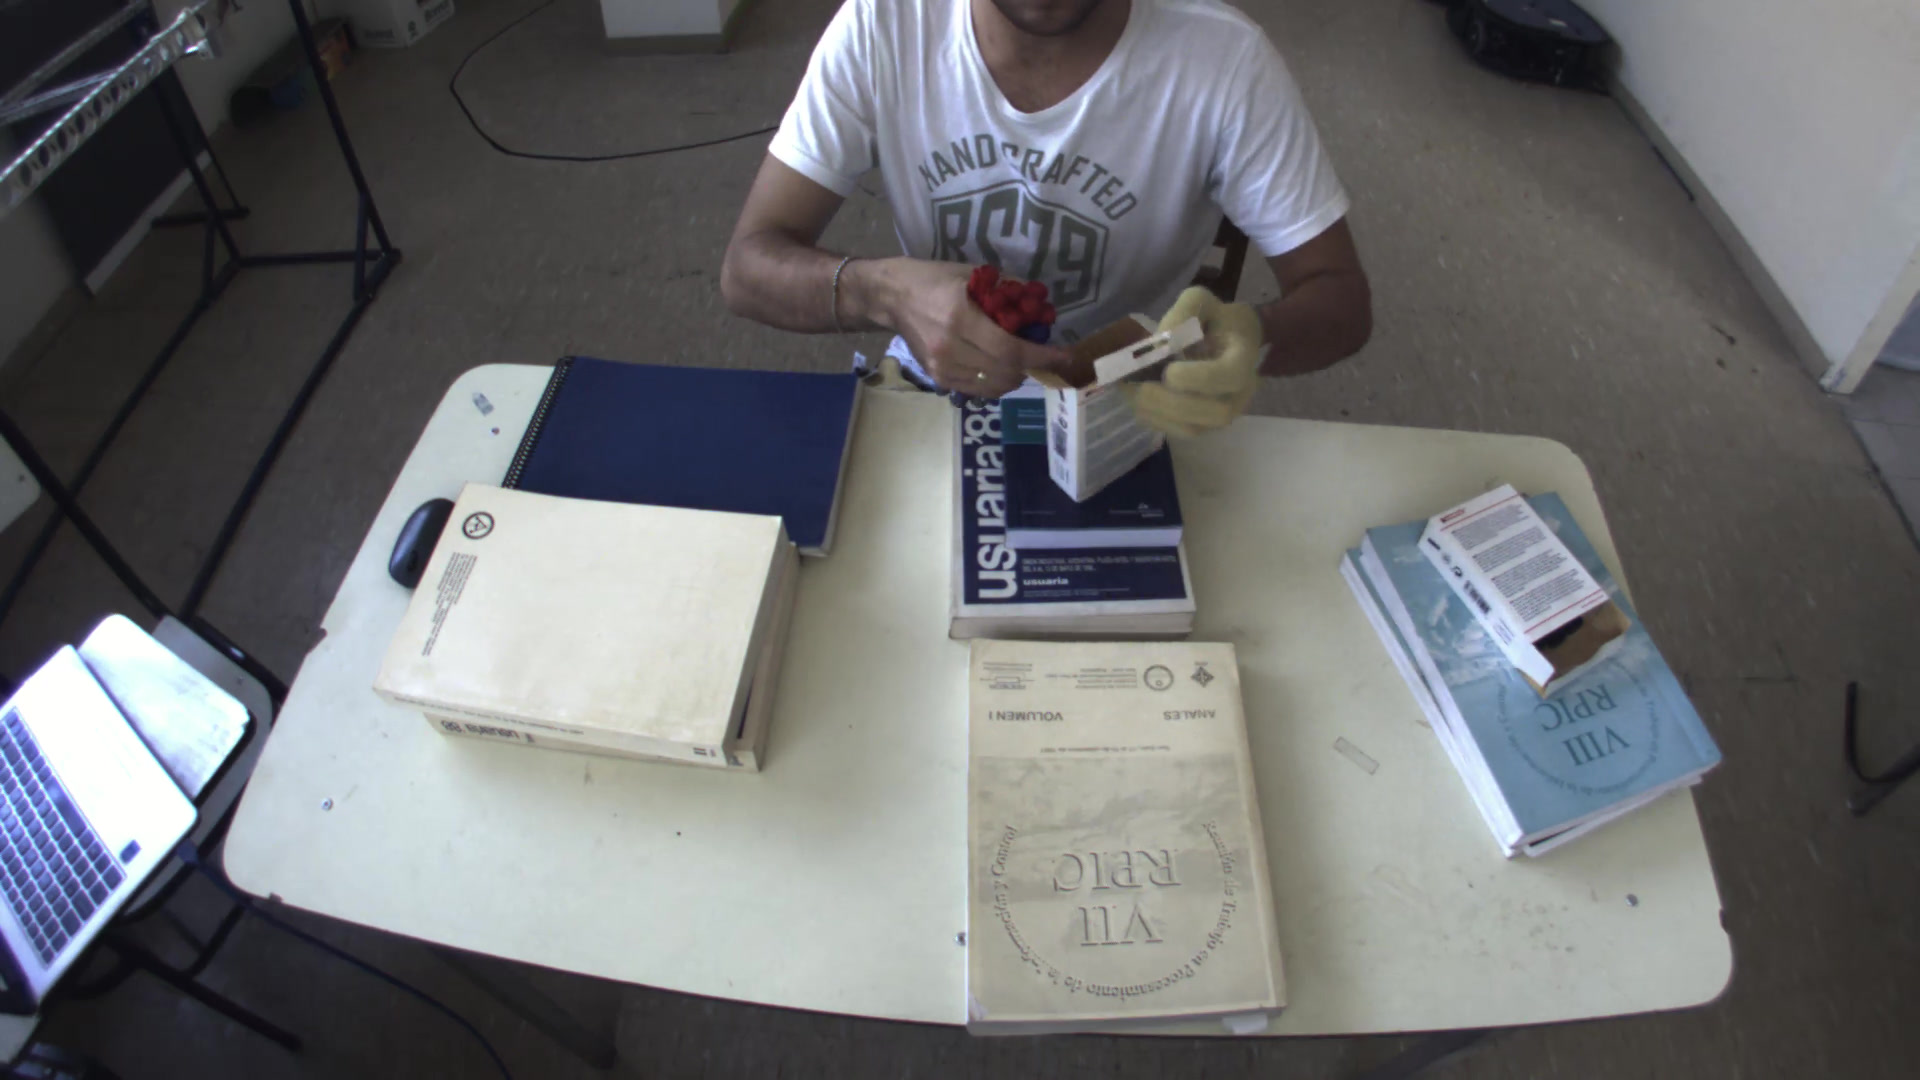hand: (858, 245, 1097, 405), (1109, 277, 1284, 447)
